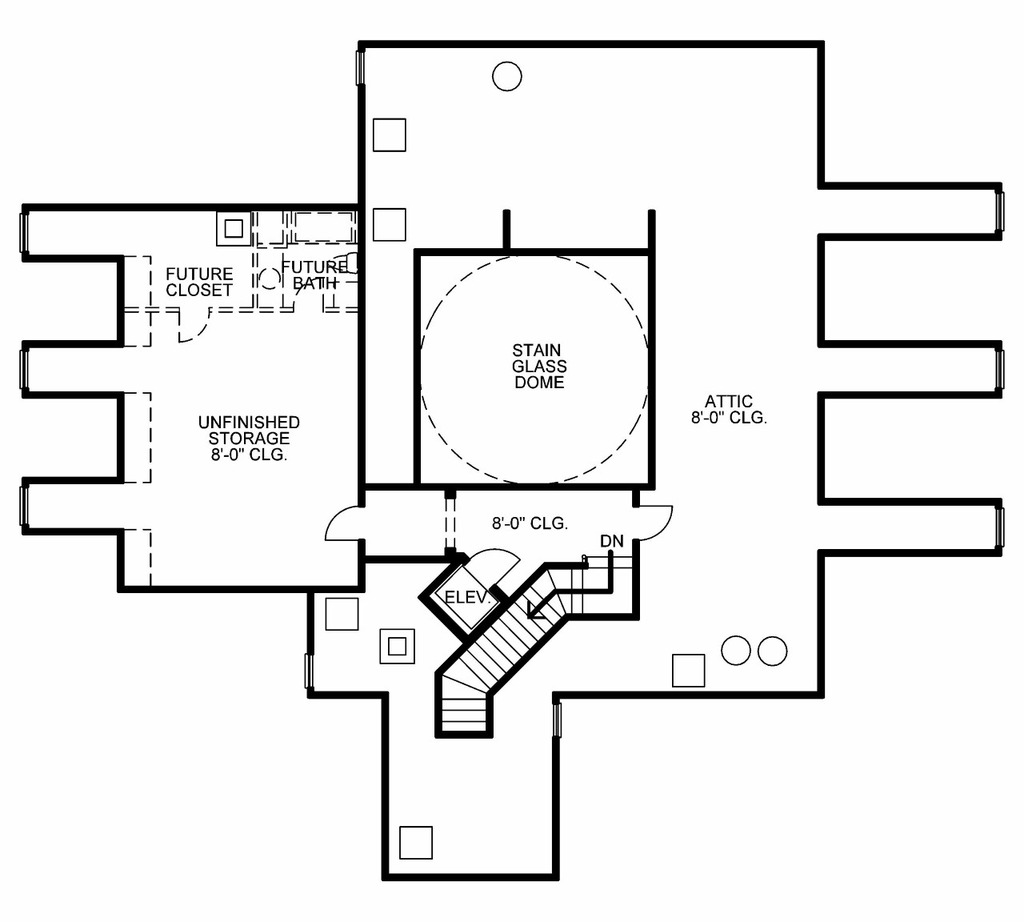door: (458, 530, 528, 590), (319, 507, 366, 549), (169, 310, 214, 347), (636, 505, 672, 549), (294, 276, 334, 309)
large_sink: (328, 250, 361, 276)
stairs: (430, 563, 634, 737)
window: (349, 49, 366, 90), (304, 650, 319, 686)
